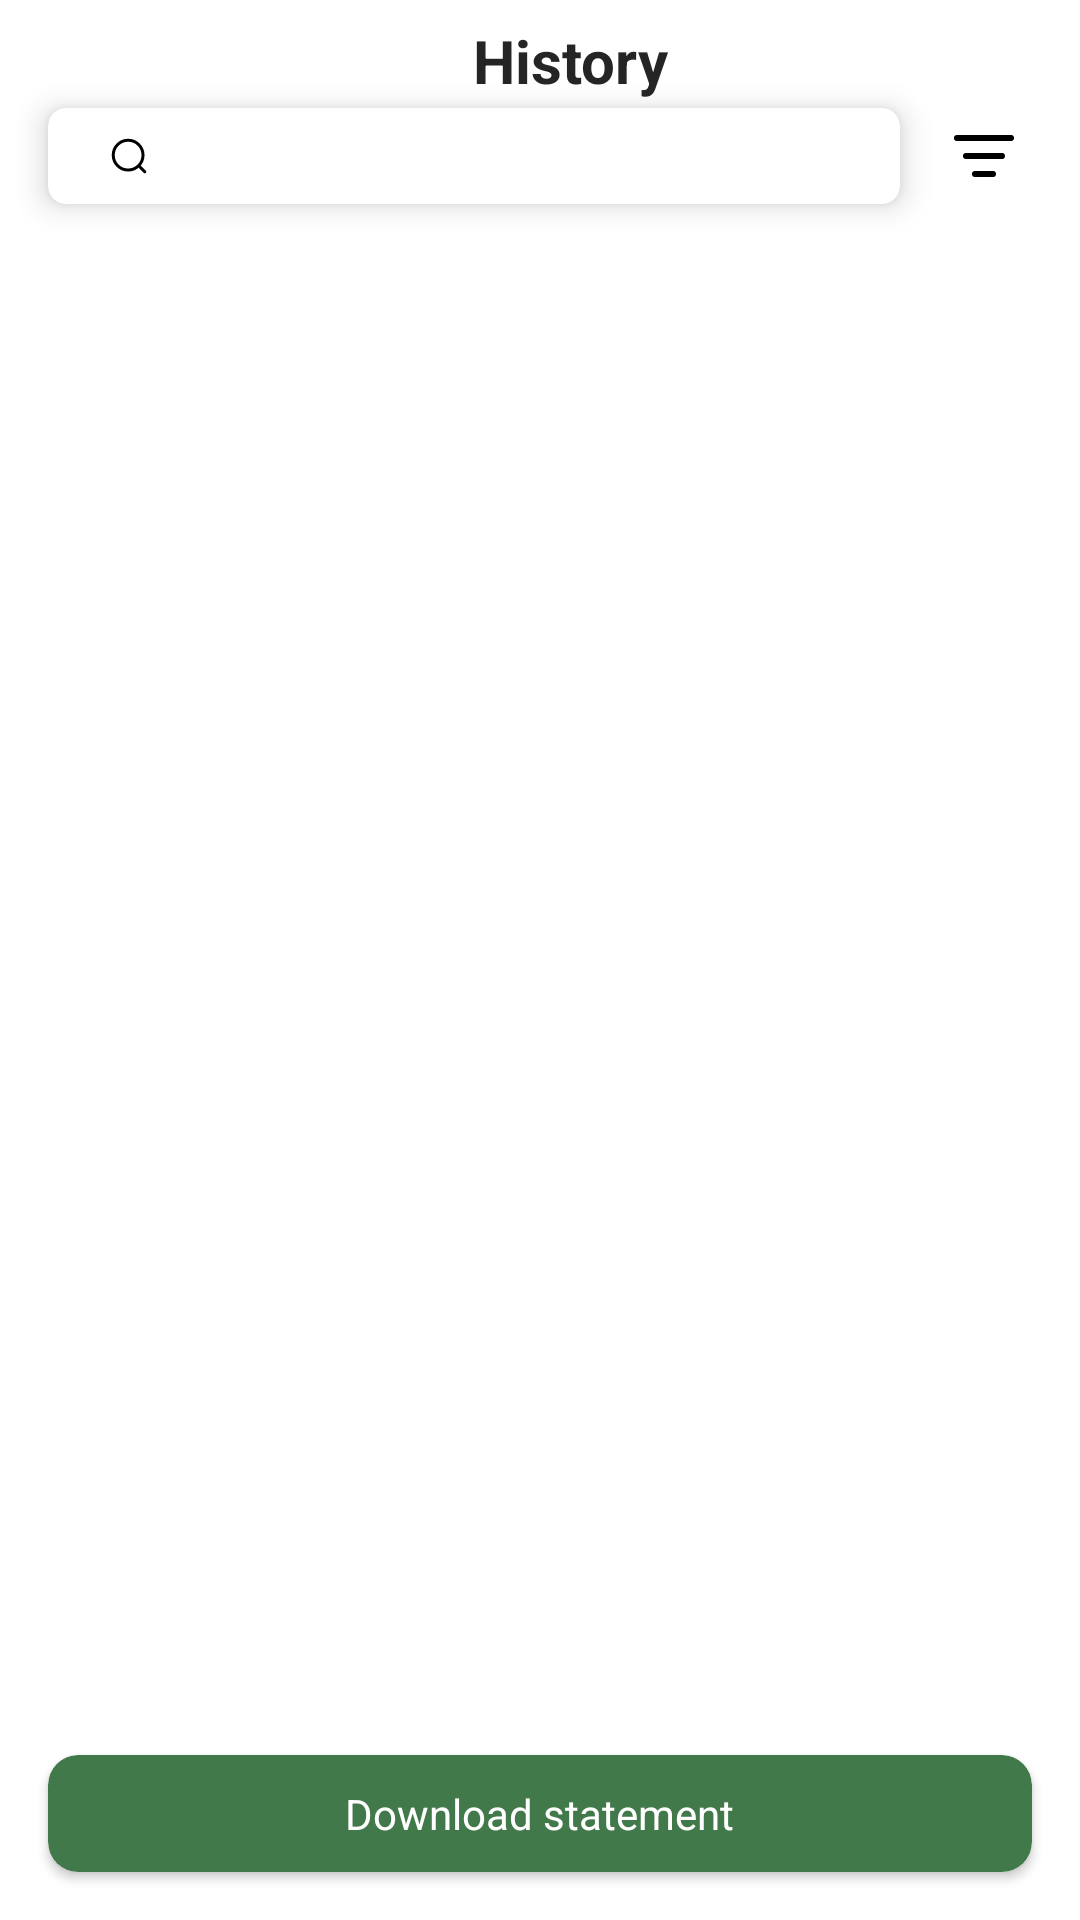

Screen size 1080w x 1920h. Icon name, then its box in pixels as (x1, y1, x2, y2):
filter: (954, 135, 1014, 177)
search: (111, 138, 147, 174)
